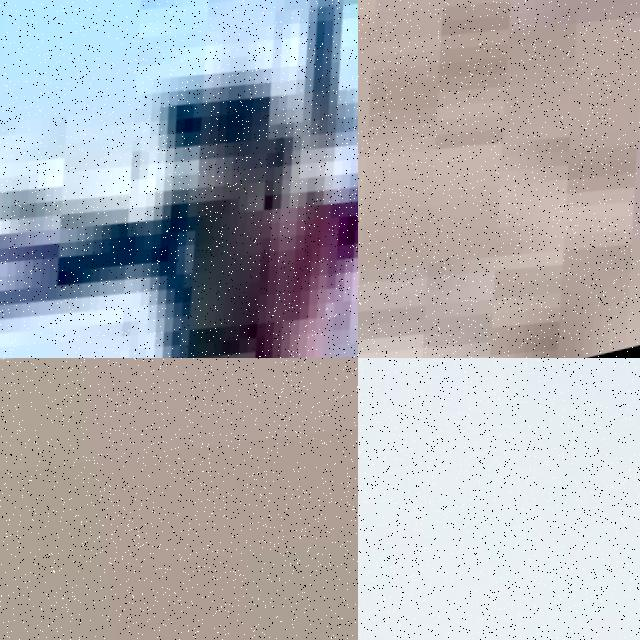0: (0, 0, 358, 358), (358, 0, 640, 358)
drone: (358, 358, 640, 640)
